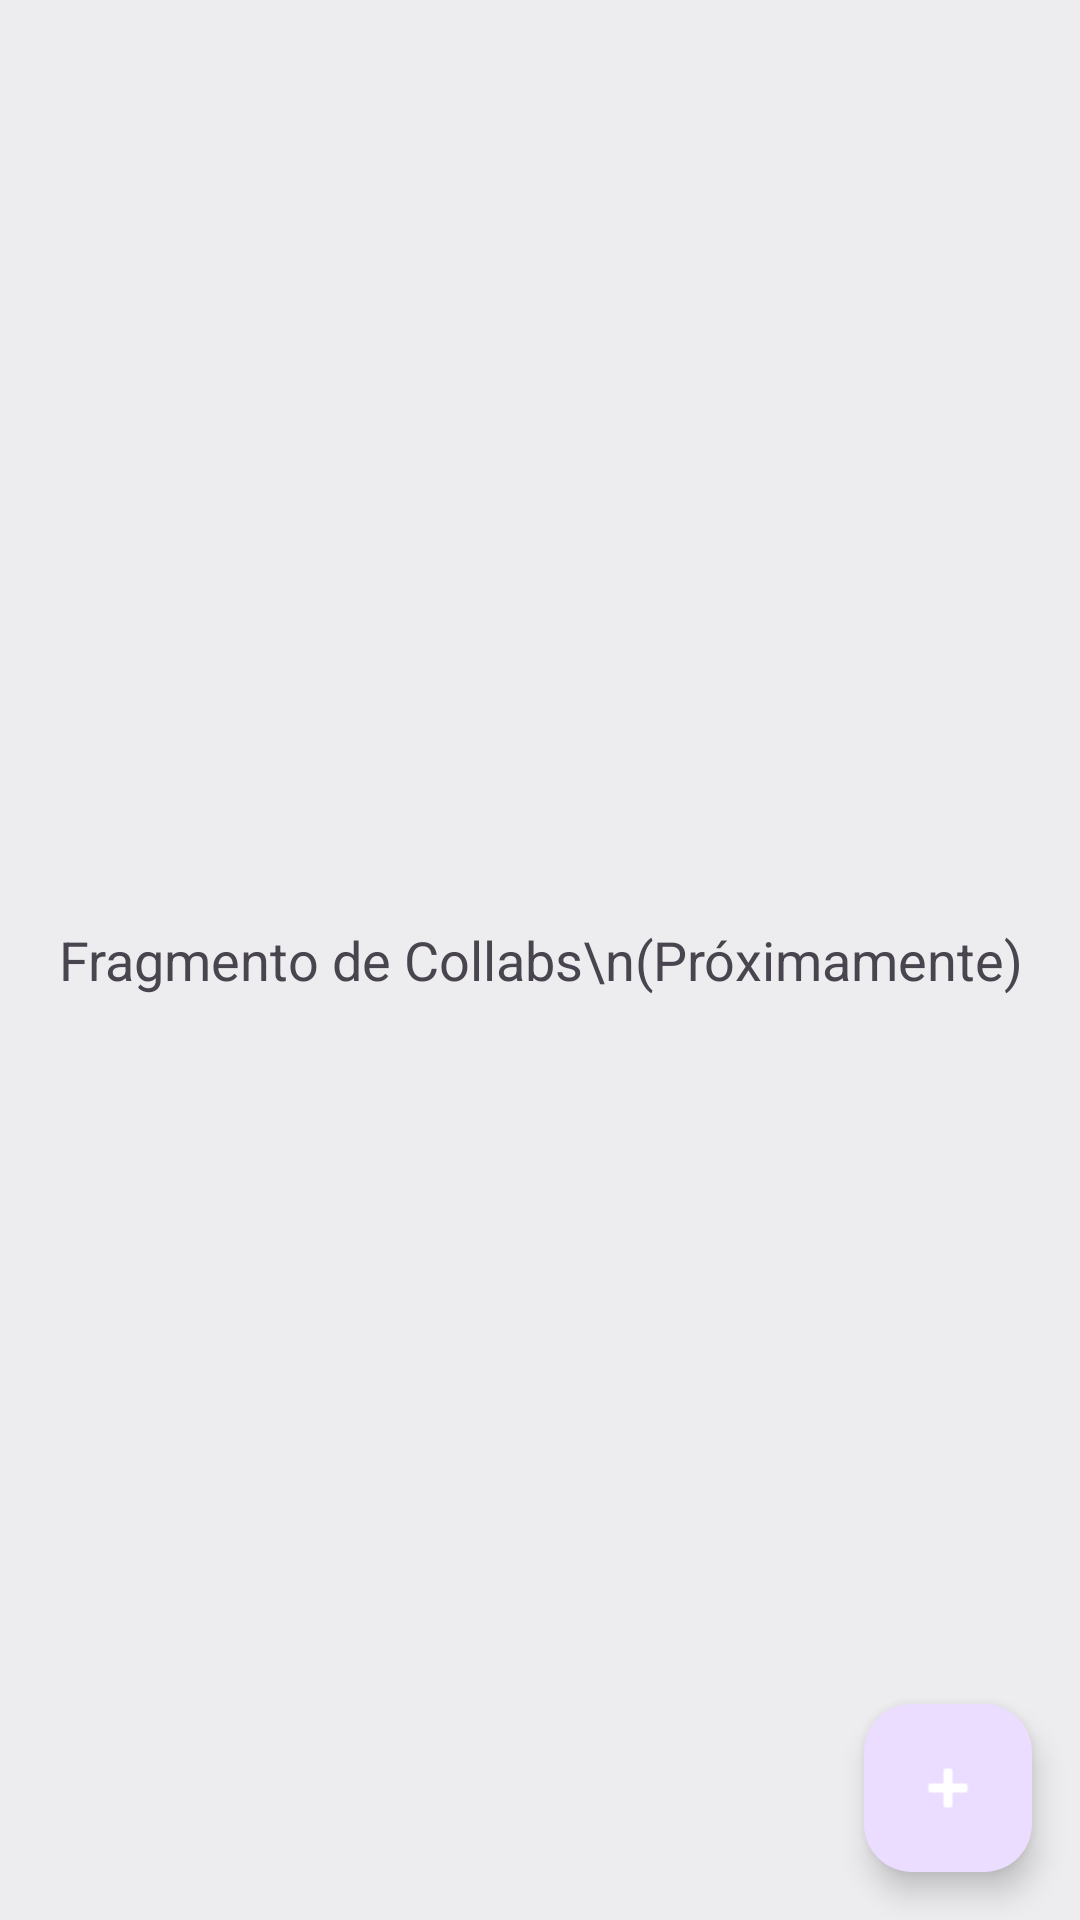

Screen size 1080*1920. Icon name, then its center in pixels as (x,y):
Crear Collab: (948,1788)
